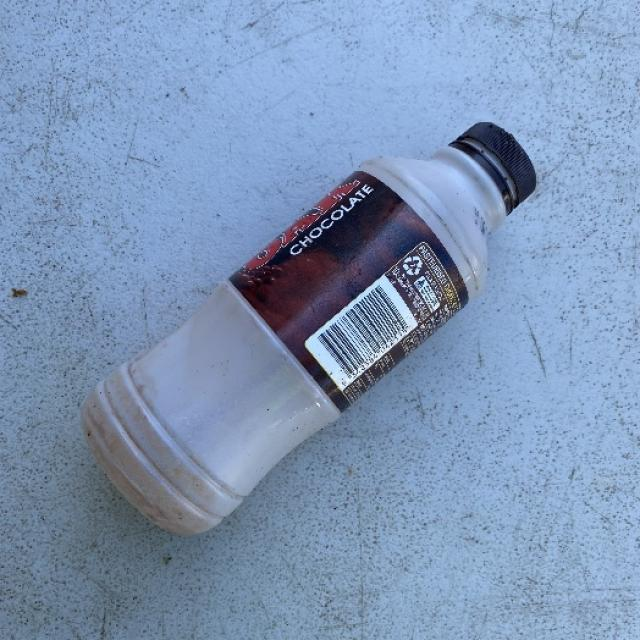plastic: (80, 120, 536, 536)
